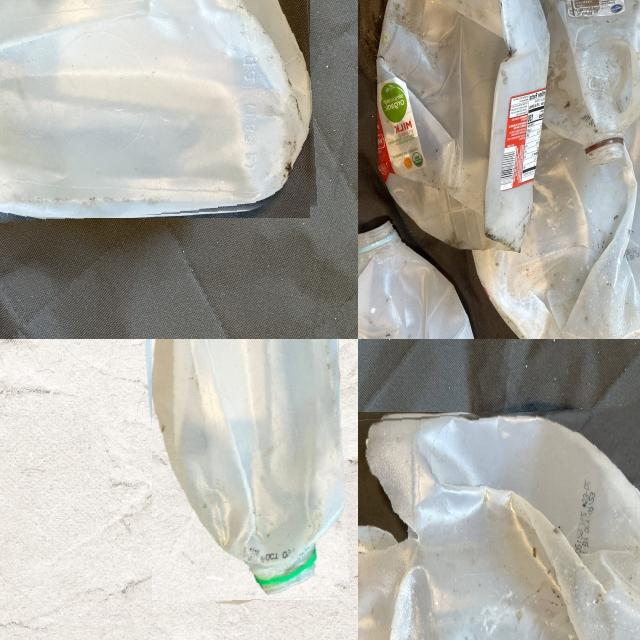milk-jug: (0, 0, 315, 223), (358, 406, 640, 640), (146, 339, 345, 602), (372, 0, 540, 240), (477, 157, 640, 339), (494, 0, 640, 169), (358, 210, 477, 339)
